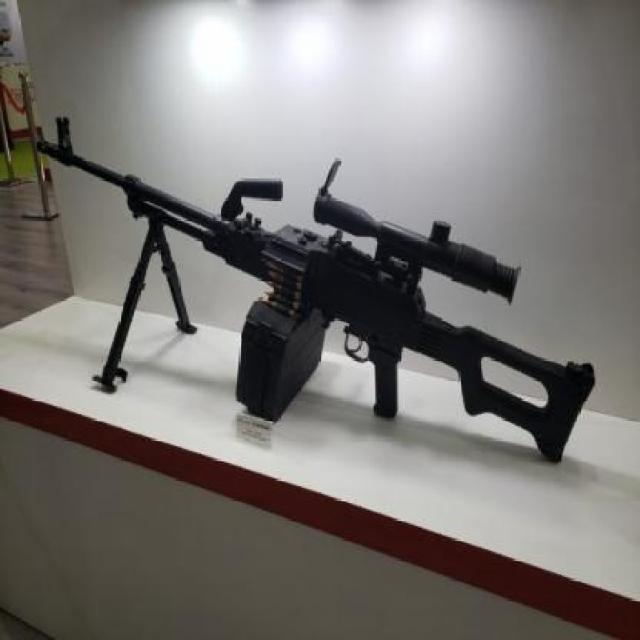weapon: (23, 95, 610, 450)
